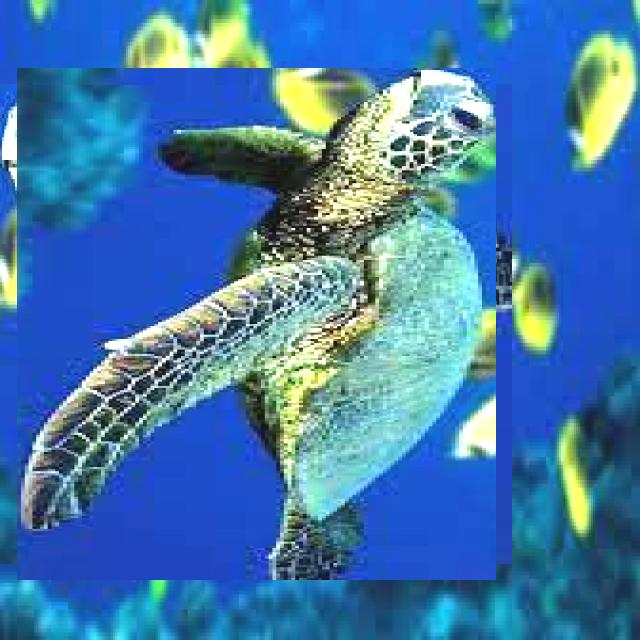Sea turtle: (8, 76, 504, 572)
